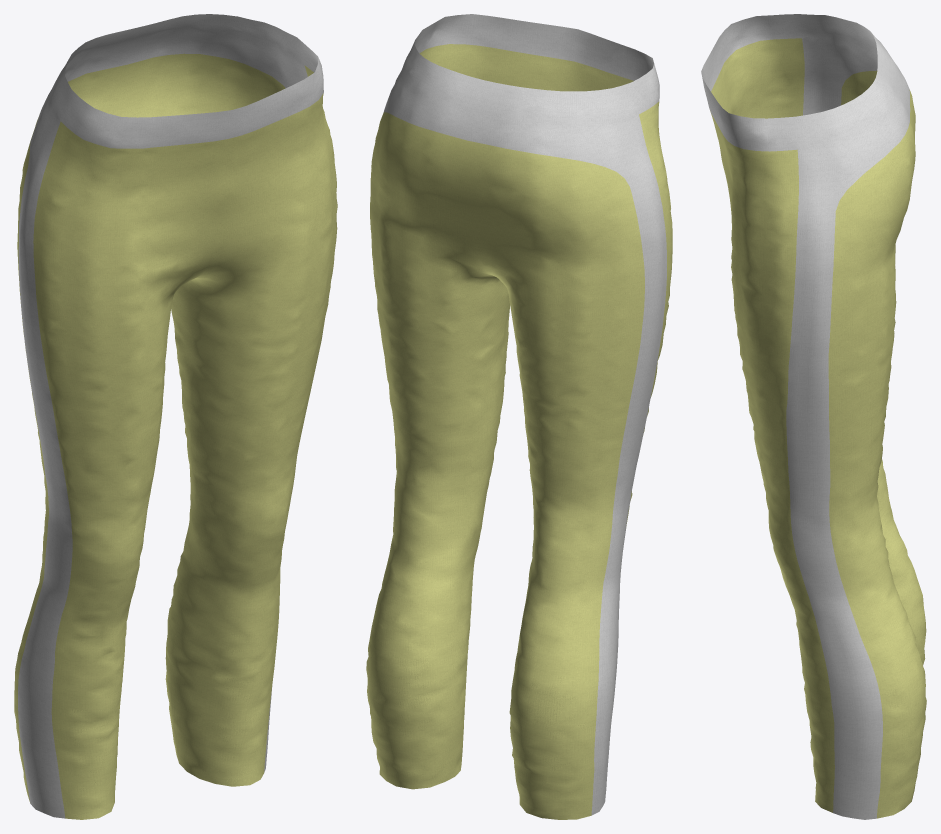
The picture shows the model from 3 angles, left to right: view 1: azimuth 30°, elevation 25°; view 2: azimuth 150°, elevation 25°; view 3: azimuth 270°, elevation 25°; orthographic projection. The views are drawn at different scales.
Visible parts, largest first — view 1: BodyBottom; view 2: BodyBottom; view 3: BodyBottom.
Boxes of the visible parts, x1,y1,x2,y2 form: BodyBottom: [14, 14, 337, 819]; BodyBottom: [366, 14, 672, 819]; BodyBottom: [701, 14, 926, 819].
Bounding box in the file's own units: 0.2998 × 0.715 × 0.2059.
Materials: 7 (7 with a texture image).
